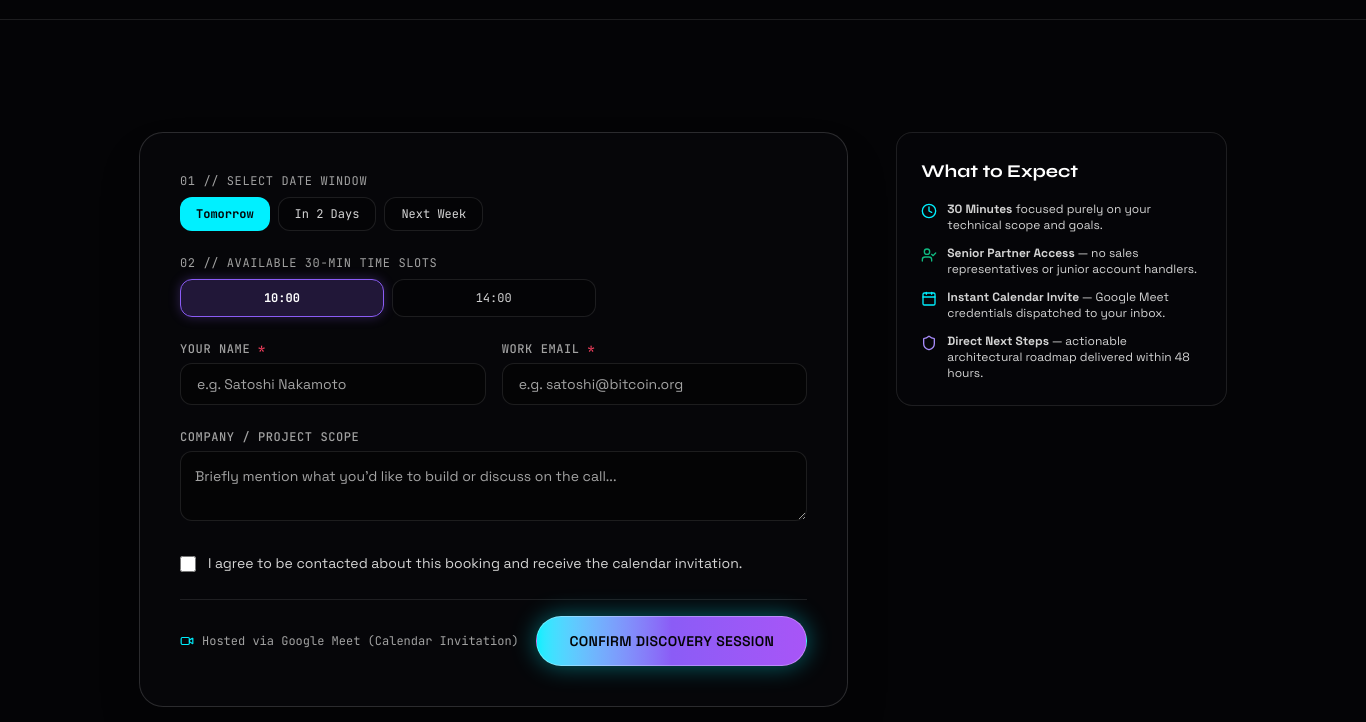
BookingPage Component › displays error notice when slot reservation fails
(page scrolled)
Check: the button "10:00" is shown, box [180,279,384,317]
Type "Trinity Moss" into the field with placeholder "e.g. Satoshi Nakamoto" at point(333, 384), box [180,363,486,405]
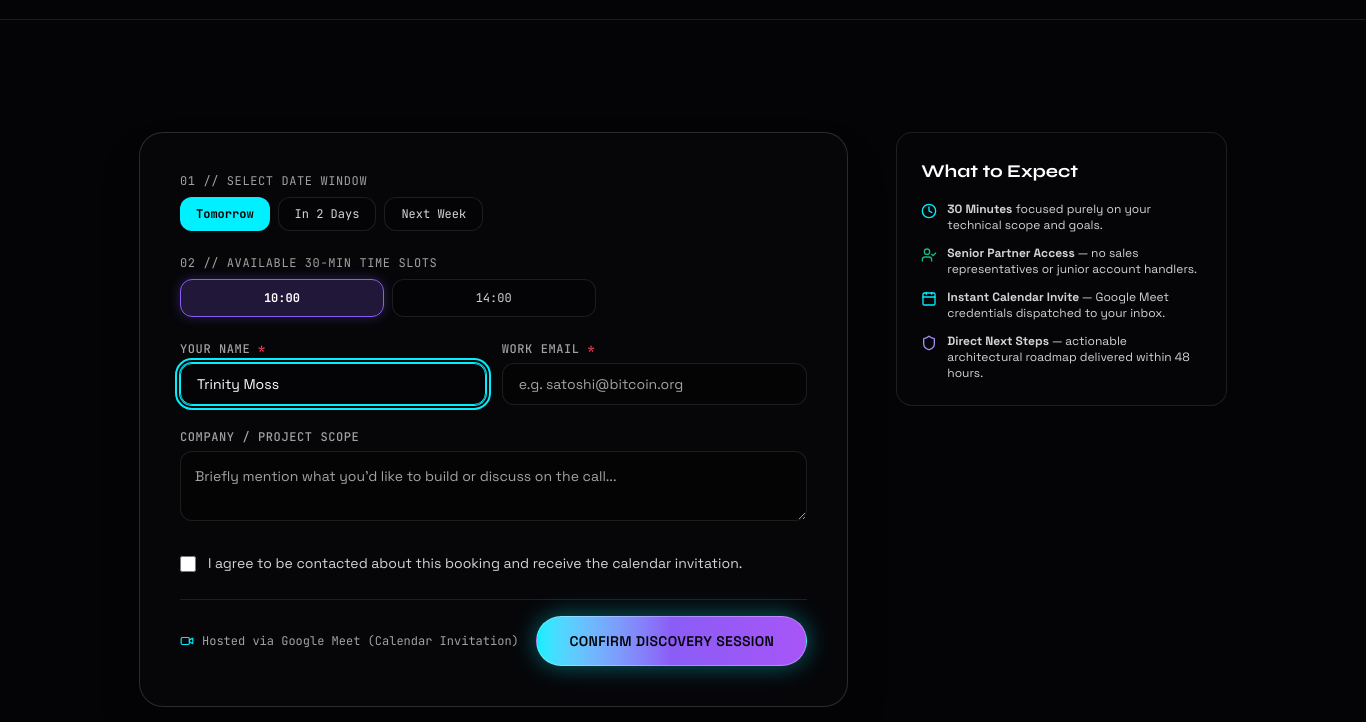
Type "trinity@zion.org" into the field with placeholder "e.g. satoshi@bitcoin.org" at point(655, 384), box [502,363,807,405]
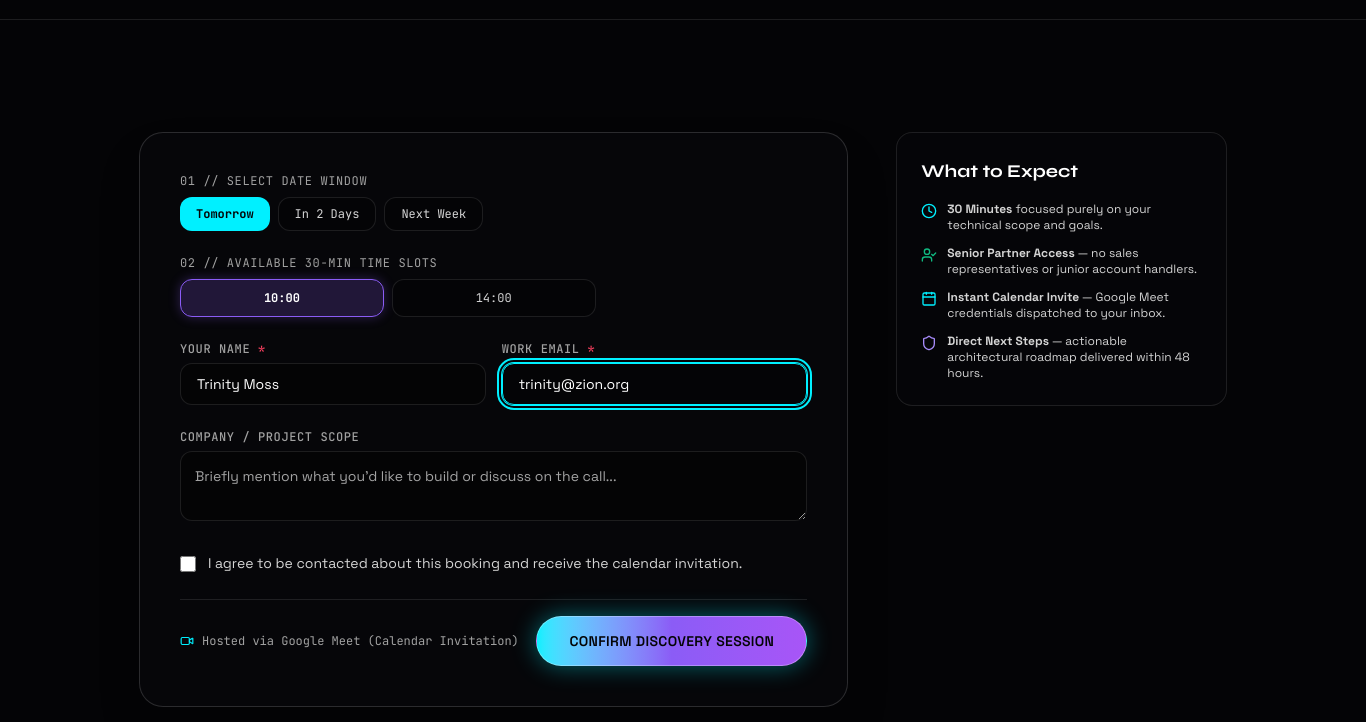
Click the checkbox labelled "be contacted" at point(188, 564), box [180,556,196,572]
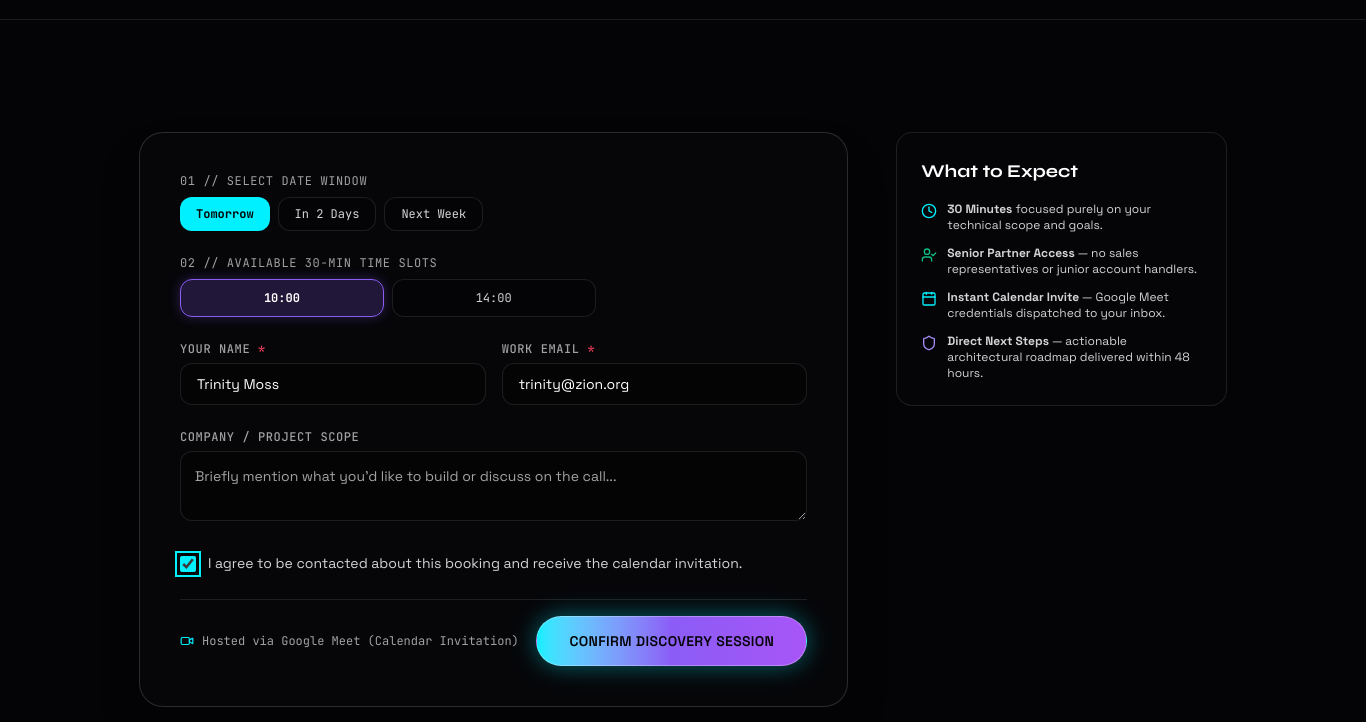
Click the button "CONFIRM DISCOVERY SESSION" at point(672, 641), box [536,616,807,666]
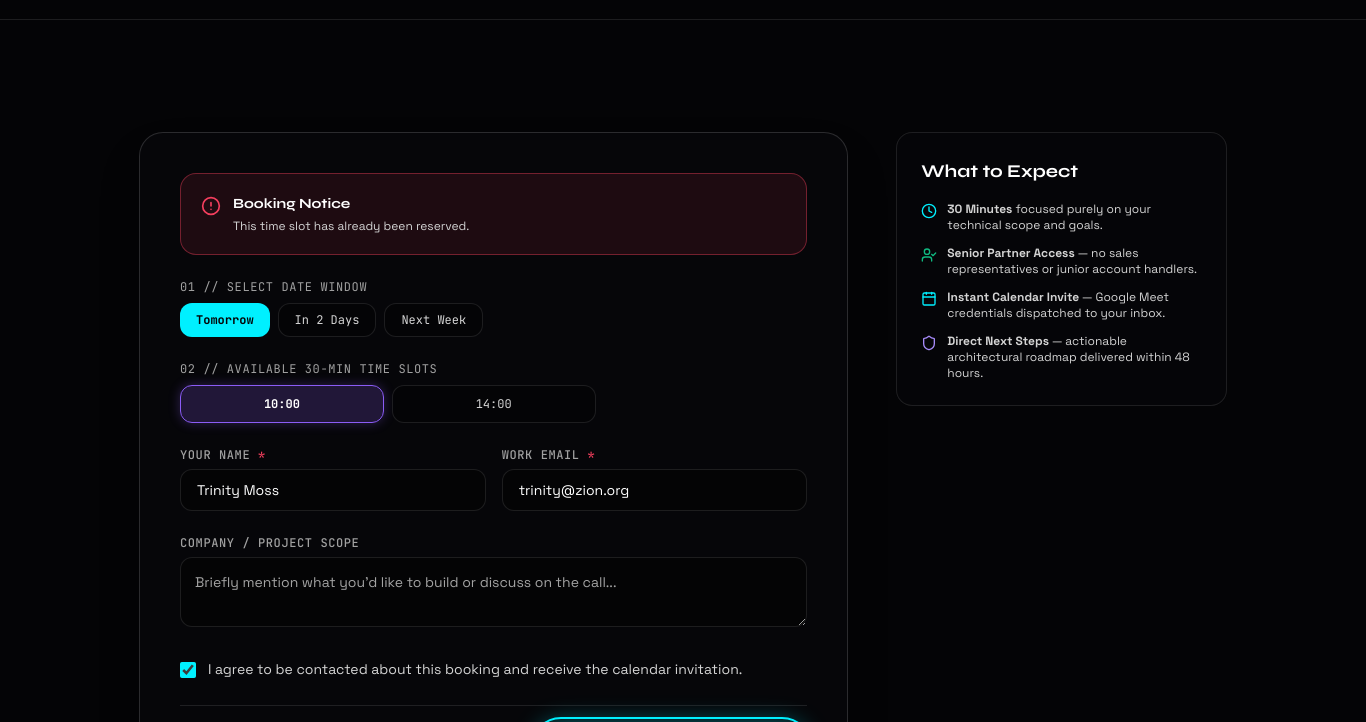
Check: the text "This time slot has already been reserved." is shown, box [233,218,469,234]
